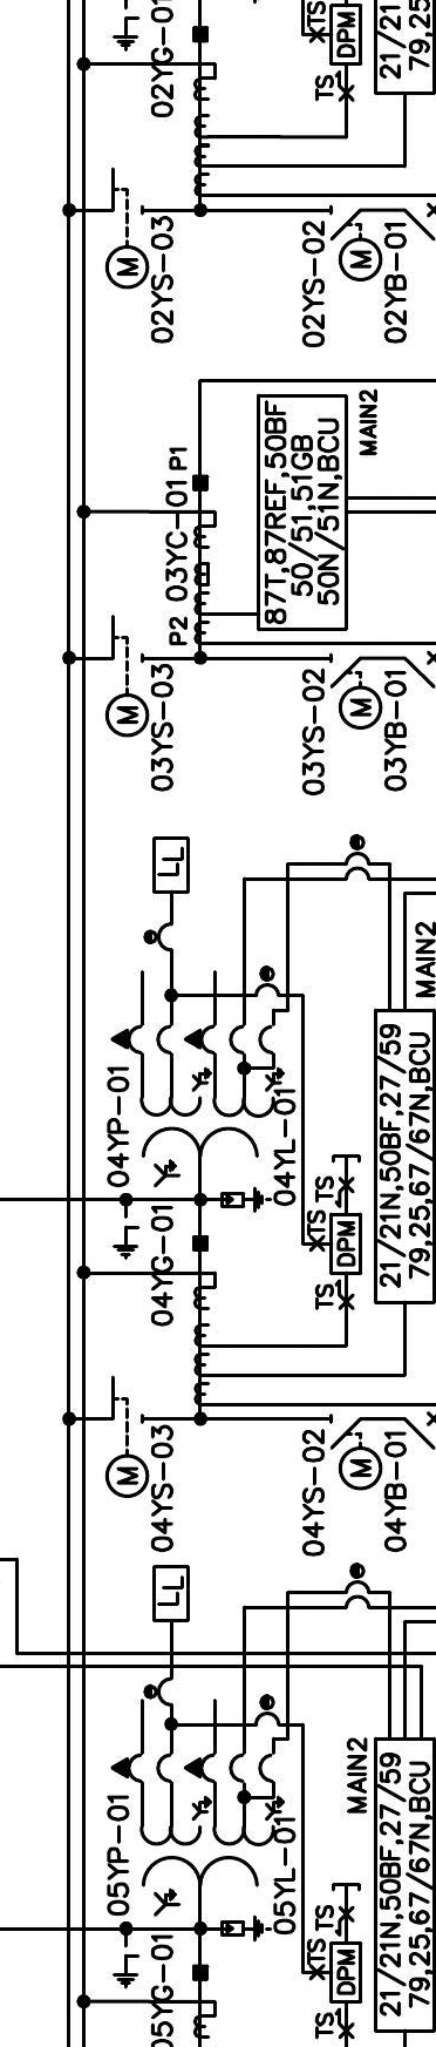115_1way_ds_w_motor: (104, 614, 150, 739), (106, 1375, 151, 1500), (106, 166, 151, 291), (329, 1413, 384, 1492), (329, 205, 384, 283), (329, 653, 384, 730)
115_gs: (111, 1943, 141, 1991), (111, 1214, 141, 1262), (111, 5, 141, 54)
115_la: (221, 1915, 273, 1944), (221, 1185, 273, 1214)
115_vt_3p: (110, 1752, 286, 1918), (110, 1023, 286, 1189)
DPM: (329, 4, 363, 68), (329, 1943, 363, 2005), (329, 1213, 363, 1275)
LL: (151, 836, 191, 896), (151, 1565, 191, 1624)
